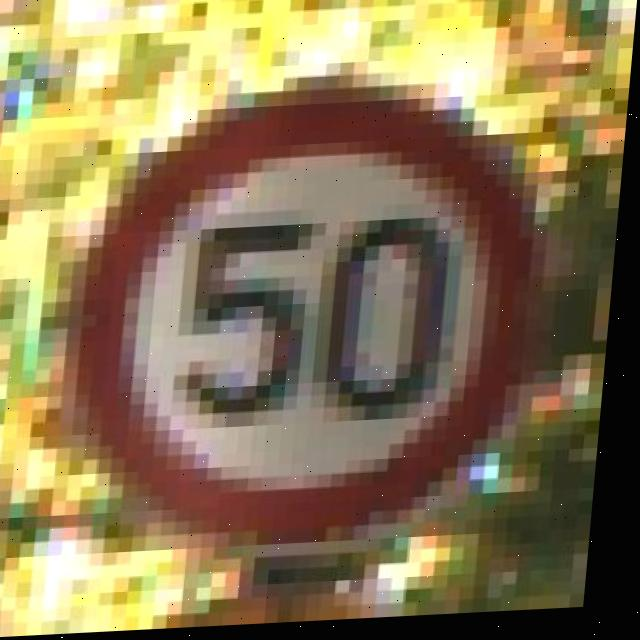Speed limit 50: (79, 77, 543, 550)
